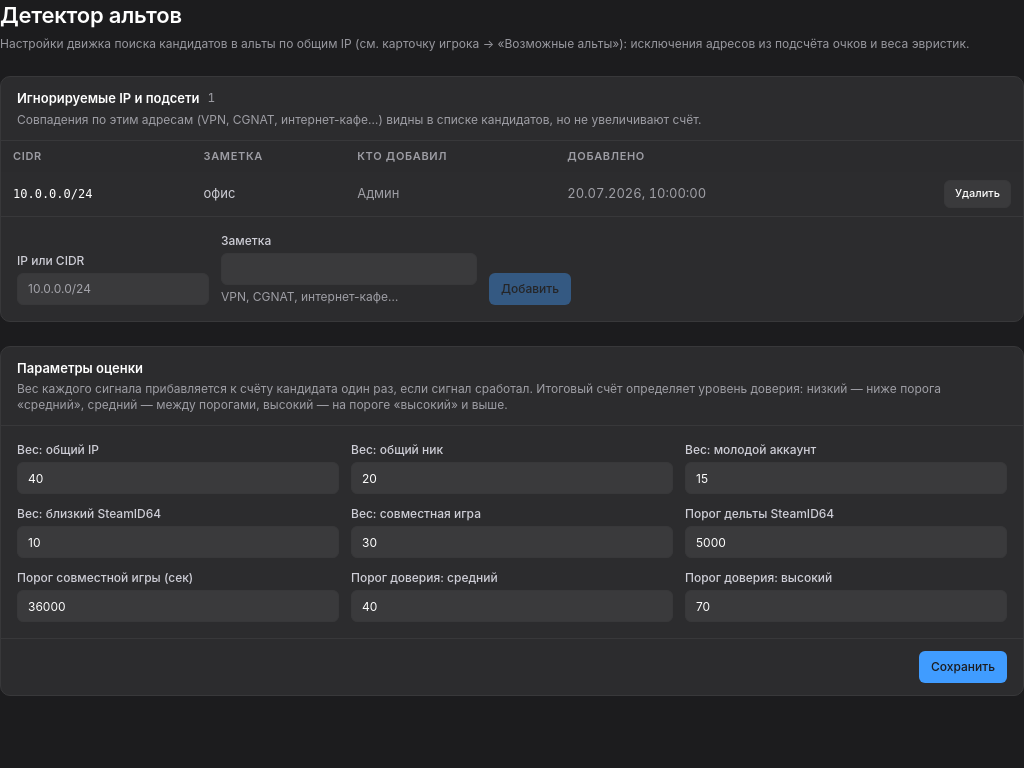
Scenario: AltDetectionPage › deletes an ignored network only after the confirmation dialog is confirmed
Expected: the text "10.0.0.0/24" is shown, [1,172,192,216]
Click the button "Удалить" at (977, 194), box [944,180,1011,208]
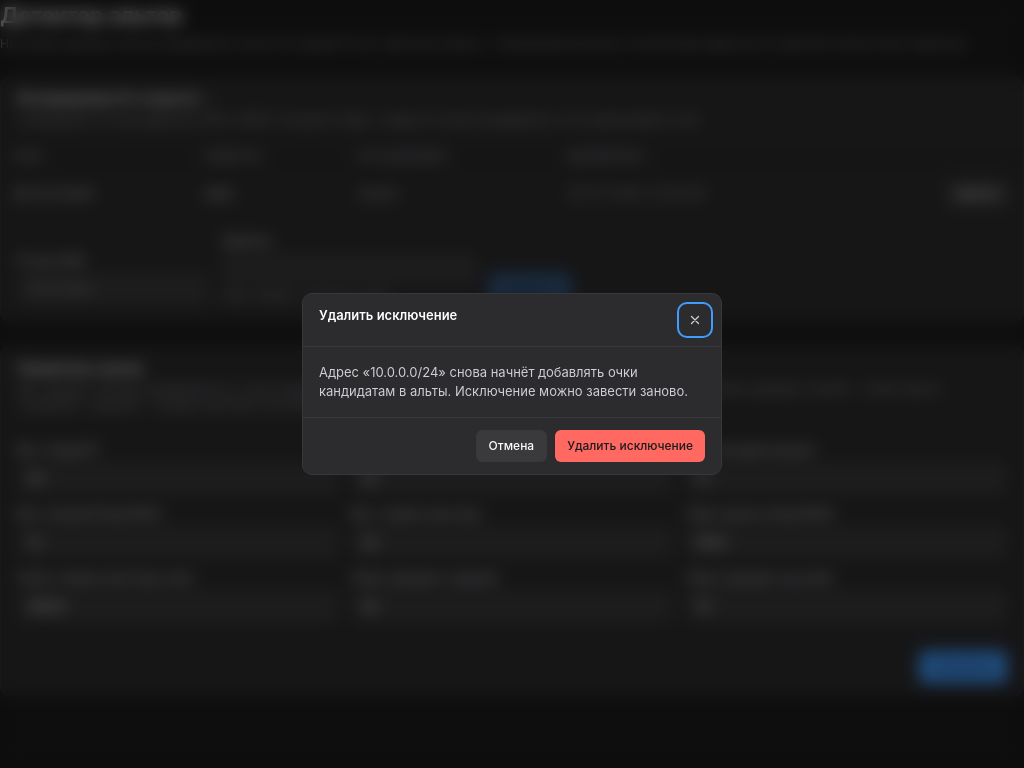
Result: the dialog "Удалить исключение" shows "10.0.0.0/24" at [370,364,438,380]
Click the button "Удалить исключение" at (630, 446), box [555,430,705,462]
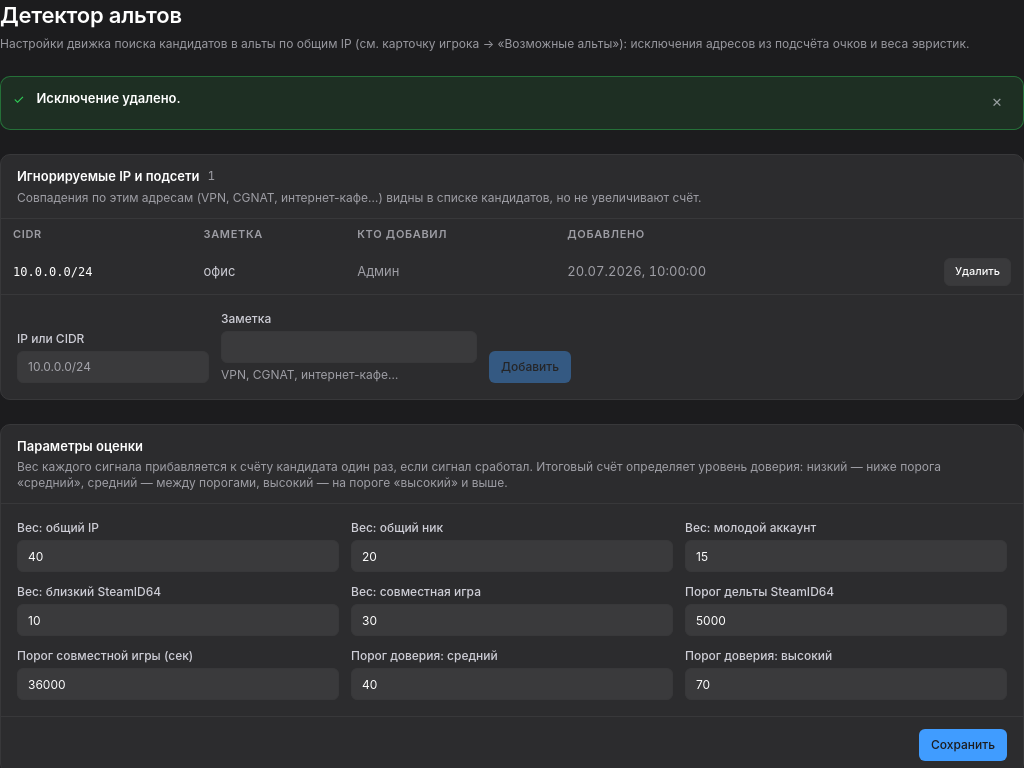
Result: the text "Исключение удалено." is shown at [36,90,181,106]
